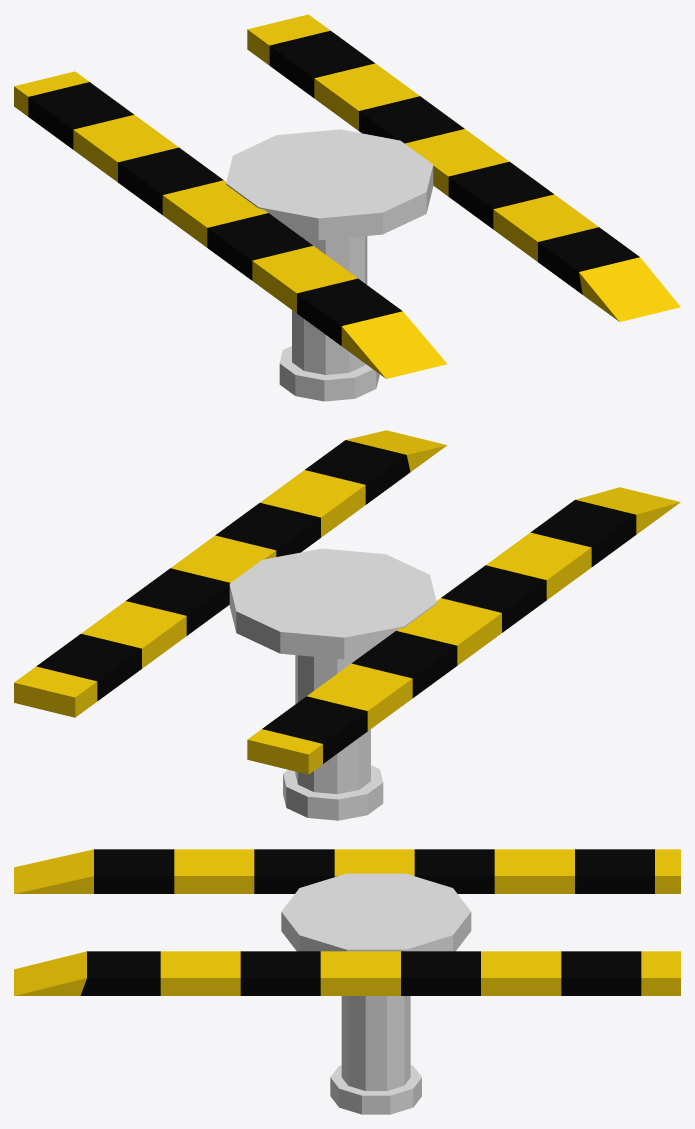
3 renders of one model, top to bottom at view 1: azimuth 30°, elevation 25°; view 2: azimuth 150°, elevation 25°; view 3: azimuth 270°, elevation 25°, orthographic. The views are drawn at different scales.
Parts seen in each view (by area): view 1: Cube.022, Cube.023, Cylinder.015; view 2: Cube.022, Cube.023, Cylinder.015; view 3: Cube.023, Cube.022, Cylinder.015.
Boxes of the visible parts, box(x1,y1,x2,y2) form: Cube.022: box(14, 71, 447, 378); Cube.023: box(247, 14, 680, 321); Cylinder.015: box(226, 129, 433, 401); Cube.022: box(247, 487, 680, 774); Cube.023: box(14, 430, 447, 717); Cylinder.015: box(229, 548, 436, 820); Cube.023: box(14, 951, 680, 995); Cube.022: box(14, 849, 680, 893); Cylinder.015: box(281, 873, 471, 1114).
Bounding box in the file's own units: 2.12 × 1.42 × 4.64.
